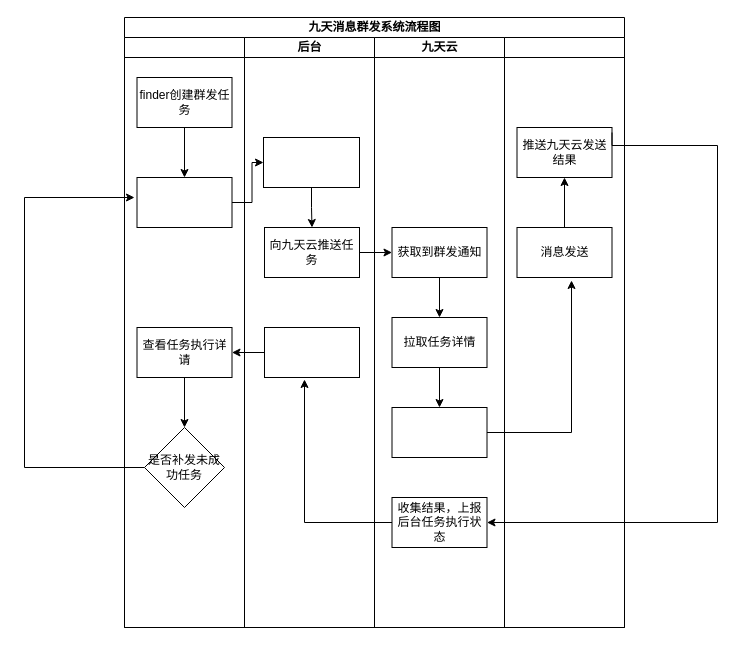
Some shapes in this 743 by 645 pixel diagram are drawn without their labels. Each missing label, with the box of its shape:
存储任务执行结果，并推送finder: (264, 326, 360, 378)
提交任务: (136, 176, 232, 228)
生成任务详情: (262, 136, 360, 188)
用户: (124, 36, 244, 628)
素材下载，任务创建: (391, 406, 487, 458)
逆向SDK: (504, 36, 624, 628)
